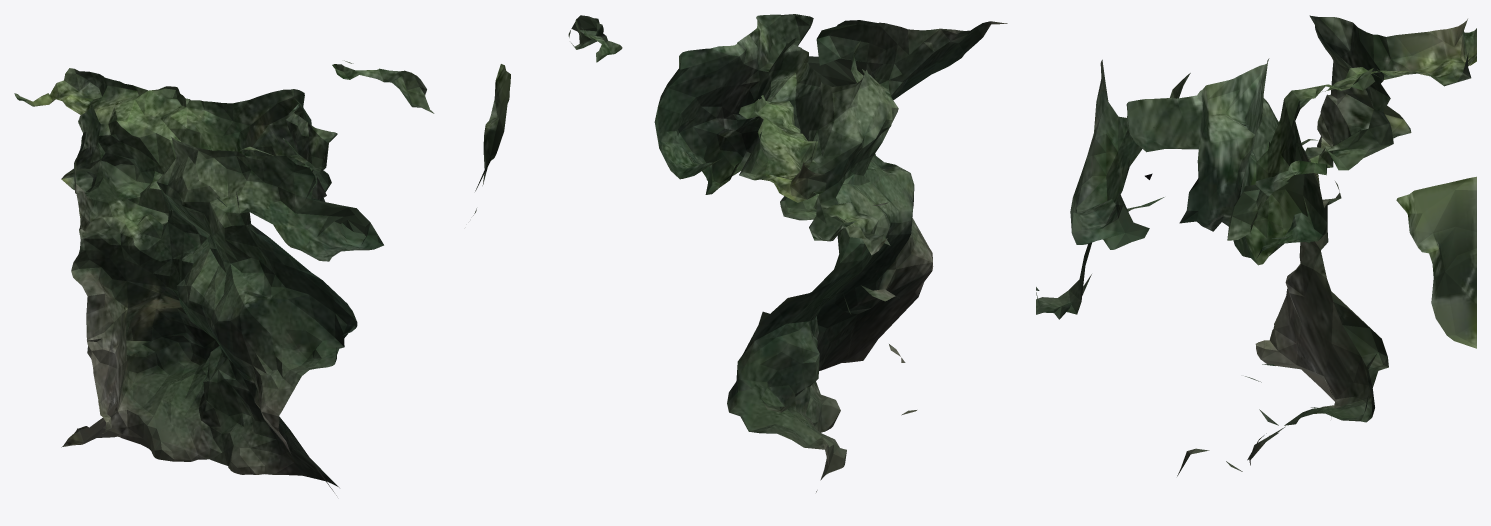
3 views of the same model, side by side, from view 1: azimuth 30°, elevation 25°; view 2: azimuth 150°, elevation 25°; view 3: azimuth 270°, elevation 25° (orthographic). The views are drawn at different scales.
Size of the model in its own units: 11.8 by 11.8 by 11.8.
Materials: 4 (4 with a texture image).
